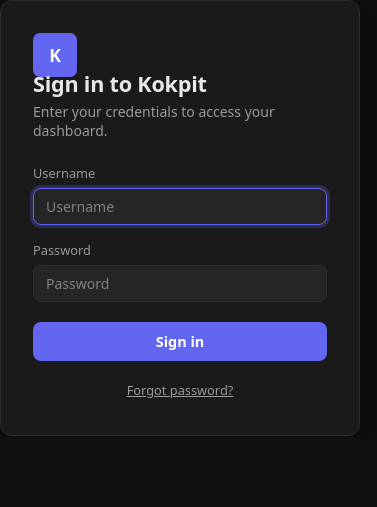
LoginForm - credentials step › falls back to 'Login failed' when the error body isn't JSON
Step 1. Type "admin" into the field with placeholder "Username" → (180, 206), box [33,188,327,225]
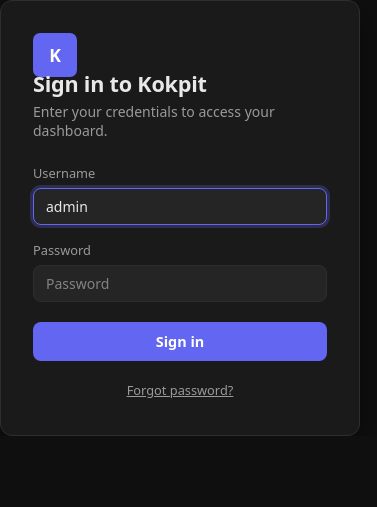
Step 2. Type "wrong" into the password field with placeholder "Password" → (180, 284), box [33,265,327,302]
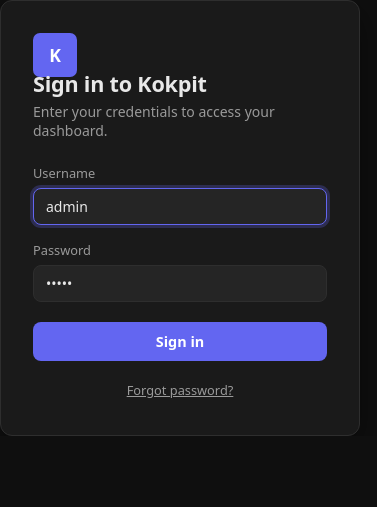
Step 3. Click the button "Sign in" → (180, 342), box [33,322,327,361]
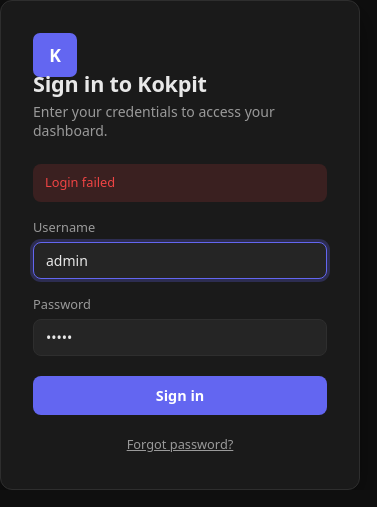
Check: the text "Login failed" is shown, box [33,164,327,202]
